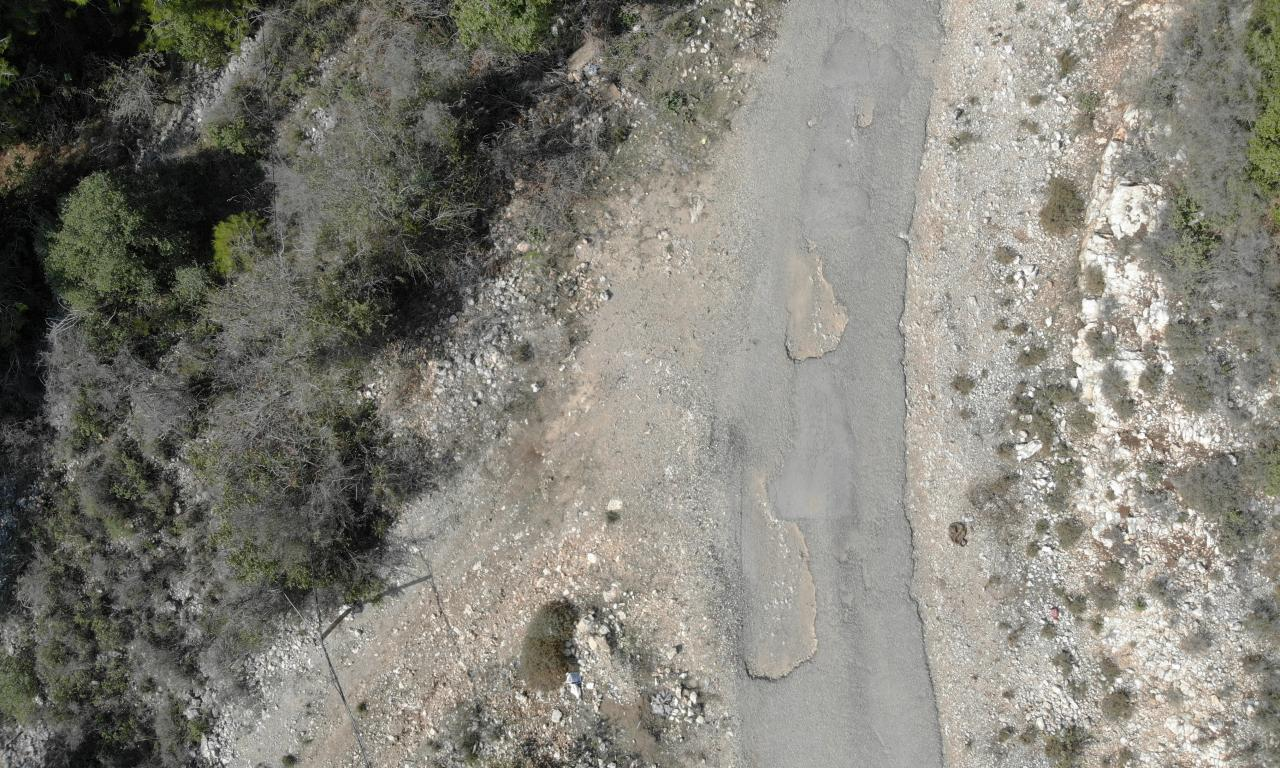BACHE: (738, 476, 818, 680), (786, 254, 847, 360), (855, 95, 874, 126)
